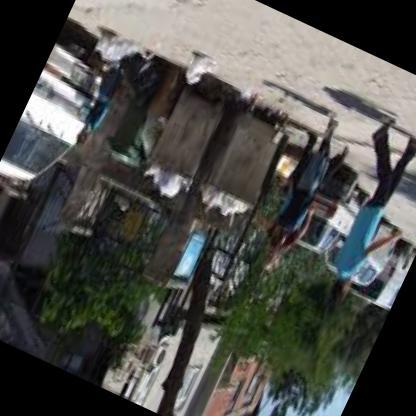Garbage: (84, 24, 166, 96), (190, 184, 247, 232), (139, 160, 194, 206)
